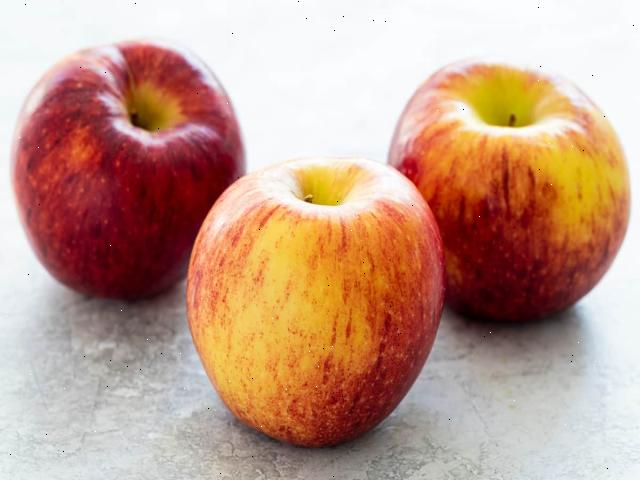apple: (188, 157, 444, 445), (384, 57, 632, 324), (12, 39, 248, 301)
